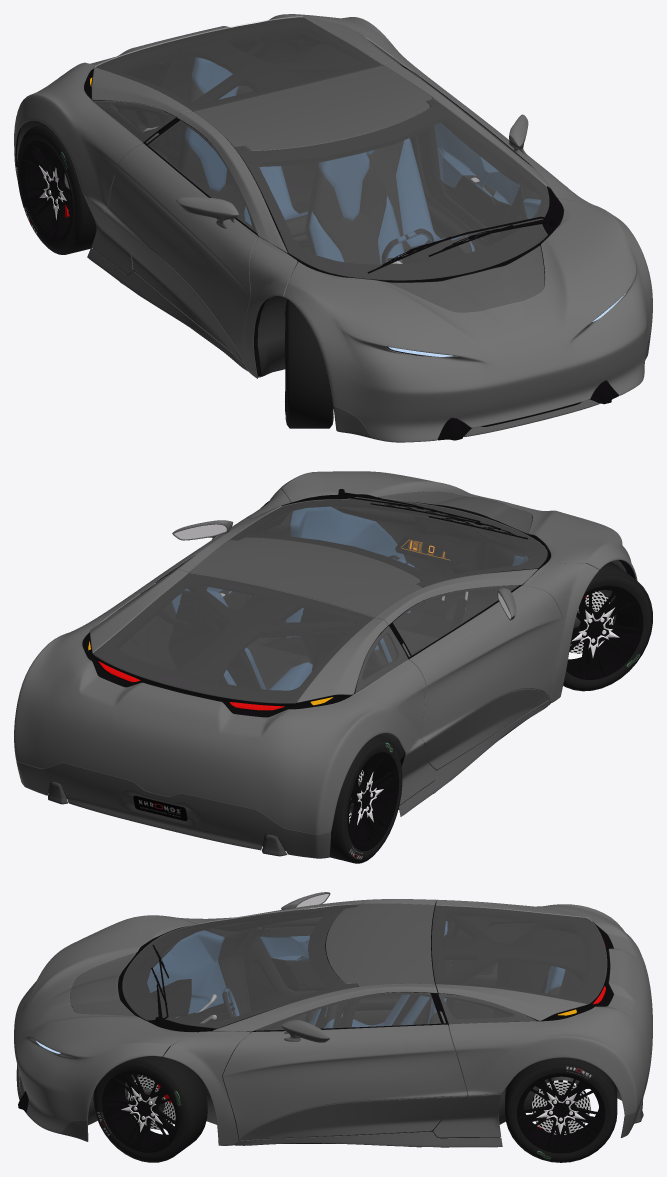
The model's file is car.glb.
The picture shows the model from 3 angles, top to bottom: view 1: azimuth 30°, elevation 25°; view 2: azimuth 150°, elevation 25°; view 3: azimuth 270°, elevation 25°; orthographic projection. The views are drawn at different scales.
Parts seen in each view (by area): view 1: BodyHood, BodyWindshield, BodyRearwindow, BodyDoorRColor1, BodyRearPanelsColor1, BodyRoofPanel, BodyWindshieldGasket, InteriorSeatsColor1, InteriorSeatsColor2, BodyPillars, InteriorPillar, InteriorRearHatch (+21 smaller); view 2: BodyRearPanelsColor1, BodyRearwindow, BodyWindshield, BodyDoorRColor1, BodyPanelsColor2, BodyRoofPanel, BodyHood, InteriorRearHatch, BodyPillars, InteriorPillar, BodyWindshieldGasket, InteriorDashMid (+22 smaller); view 3: BodyRearPanelsColor1, BodyWindshield, BodyDoorLColor1, BodyHood, BodyRearwindow, BodyRoofPanel, BodyPillars, BodyWindshieldGasket, BodyDoorLColor2, BodyPanelsColor2, Part 84, InteriorRearHatch (+25 smaller).
Part boxes in pixels (box(x1,y1,x2,y2)): BodyHood: box(283, 198, 652, 442); BodyWindshield: box(234, 98, 549, 280); BodyRearwindow: box(95, 16, 382, 110); BodyDoorRColor1: box(104, 143, 257, 362); BodyRearPanelsColor1: box(14, 14, 428, 210); BodyRoofPanel: box(193, 65, 432, 150); BodyWindshieldGasket: box(234, 99, 563, 282); InteriorSeatsColor1: box(185, 57, 475, 264); InteriorSeatsColor2: box(180, 78, 472, 264); BodyPillars: box(176, 61, 598, 378); InteriorPillar: box(158, 37, 434, 168); InteriorRearHatch: box(93, 17, 383, 117); BodyRearPanelsColor1: box(14, 569, 425, 834); BodyRearwindow: box(92, 573, 373, 703); BodyWindshield: box(229, 497, 547, 587); BodyDoorRColor1: box(409, 585, 562, 742); BodyPanelsColor2: box(16, 700, 550, 858); BodyRoofPanel: box(189, 537, 422, 617); BodyHood: box(279, 471, 637, 580); InteriorRearHatch: box(93, 573, 386, 707); BodyPillars: box(175, 489, 599, 702); InteriorPillar: box(174, 574, 417, 682); BodyWindshieldGasket: box(230, 497, 550, 587); InteriorDashMid: box(331, 503, 528, 622); BodyRearPanelsColor1: box(436, 899, 652, 1115); BodyWindshield: box(122, 904, 357, 1028); BodyDoorLColor1: box(222, 1024, 467, 1139); BodyHood: box(14, 915, 196, 1133); BodyRearwindow: box(432, 905, 606, 1003); BodyRoofPanel: box(326, 903, 434, 986); BodyPillars: box(163, 899, 437, 1145); BodyWindshieldGasket: box(118, 905, 357, 1032); BodyDoorLColor2: box(240, 1096, 467, 1140); BodyPanelsColor2: box(16, 1050, 652, 1147); Part 84: box(93, 1054, 207, 1162); InteriorRearHatch: box(431, 905, 606, 1020).
Size of the model in its own units: 1.75 by 0.791 by 3.
Materials: 23 (6 with a texture image).
